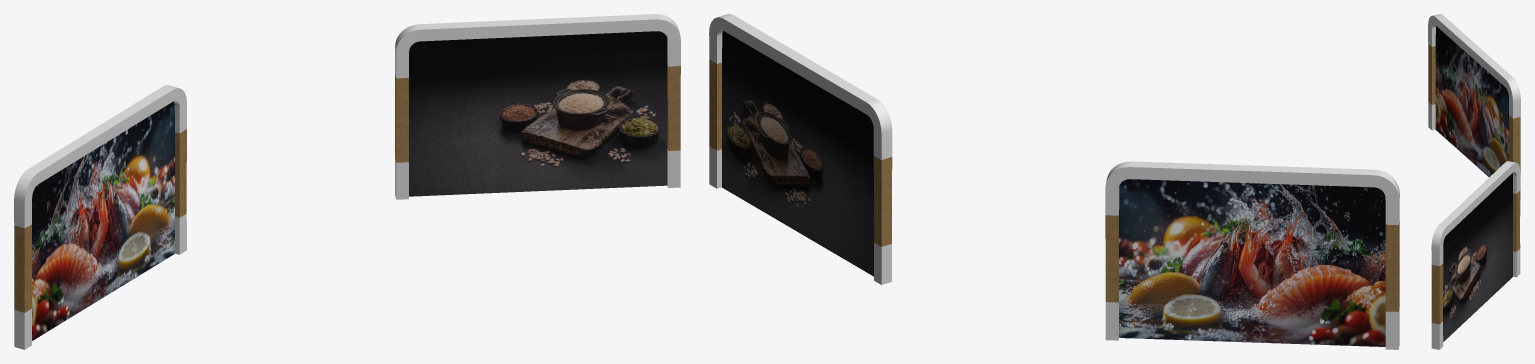
Rendered from thuysan_L2.glb.
3 renders of one model, left to right at view 1: azimuth 30°, elevation 25°; view 2: azimuth 150°, elevation 25°; view 3: azimuth 270°, elevation 25°, orthographic. The views are drawn at different scales.
Parts seen in each view (by area): view 1: _l2_Visual led right.001, _l2_Visual led left.002, _l2_Visual led right.002, _l2_Visual led left.003; view 2: _l2_Visual led left.002, _l2_Visual led right.001, _l2_Visual led left.003, _l2_Visual led right.002; view 3: _l2_Visual led left.002, _l2_Visual led right.001, _l2_Visual led right.002, _l2_Visual led left.003.
Boxes of the visible parts, bbox=[...] form: _l2_Visual led right.001: bbox=[409, 31, 667, 196]; _l2_Visual led left.002: bbox=[32, 101, 174, 340]; _l2_Visual led right.002: bbox=[395, 14, 680, 199]; _l2_Visual led left.003: bbox=[14, 85, 186, 349]; _l2_Visual led left.002: bbox=[1119, 179, 1385, 346]; _l2_Visual led right.001: bbox=[722, 31, 873, 276]; _l2_Visual led left.003: bbox=[1105, 161, 1399, 349]; _l2_Visual led right.002: bbox=[709, 14, 892, 284]; _l2_Visual led left.002: bbox=[1435, 26, 1508, 177]; _l2_Visual led right.001: bbox=[1443, 173, 1512, 341]; _l2_Visual led right.002: bbox=[1431, 161, 1520, 349]; _l2_Visual led left.003: bbox=[1428, 14, 1520, 200].
Size of the model in its own units: 19.65 by 4.77 by 3.43.
Materials: 6 (4 with a texture image).
